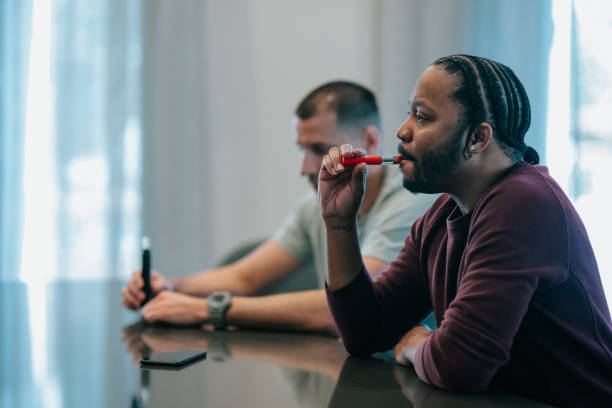cigarette: (341, 153, 404, 168), (141, 236, 154, 306)
